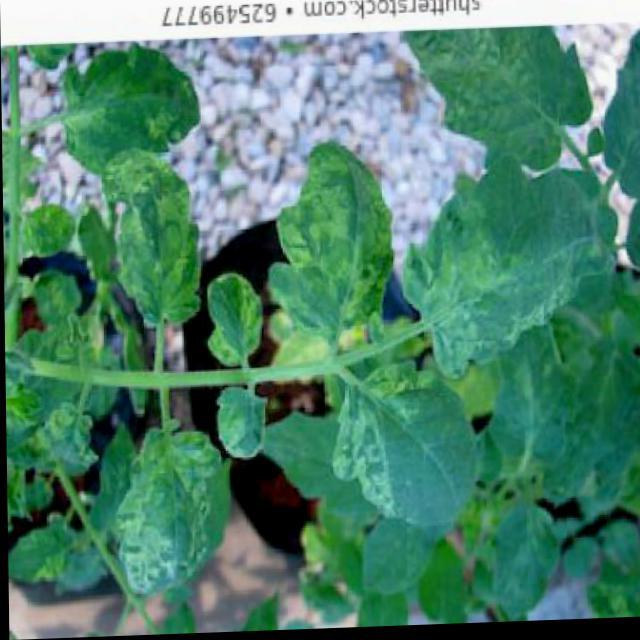Tomato yellow virus leaf: (402, 156, 623, 378), (329, 354, 482, 546), (264, 143, 399, 350), (114, 402, 240, 610), (59, 50, 201, 183), (96, 153, 201, 328), (204, 260, 266, 370), (217, 381, 273, 463)
